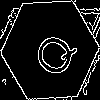Q: (25, 25, 79, 82)
